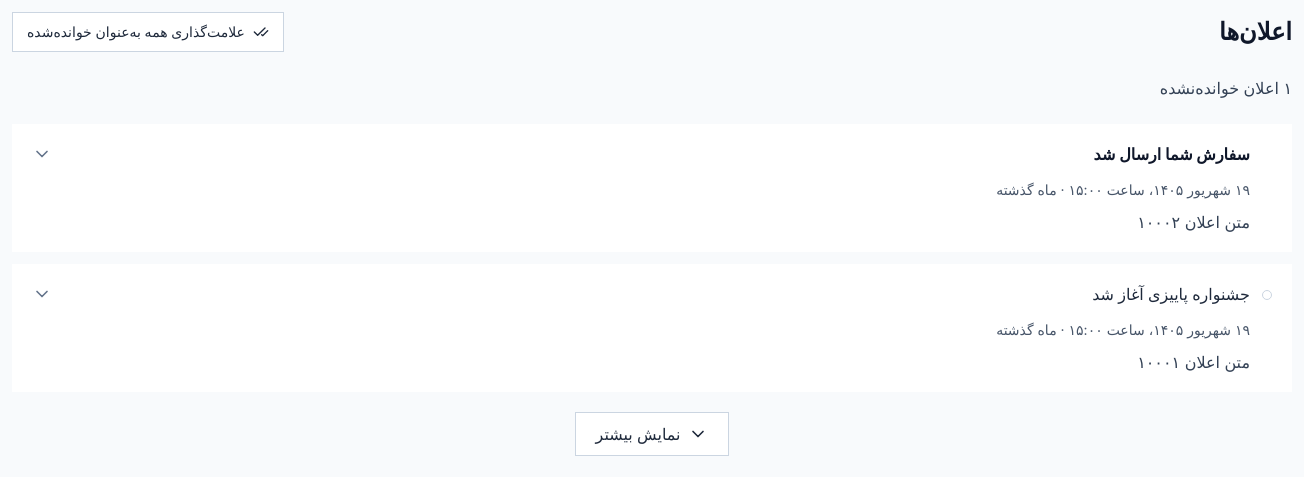
Test case: a read written while the inbox is being read › a 404 while «نمایش بیشتر»’s page is on its way: the page lands, the row stays out
Expected: the text "۱ اعلان خوانده‌نشده" is shown, [1160,78,1292,98]
Click the button "نمایش بیشتر": (652, 434) [574,412,729,456]
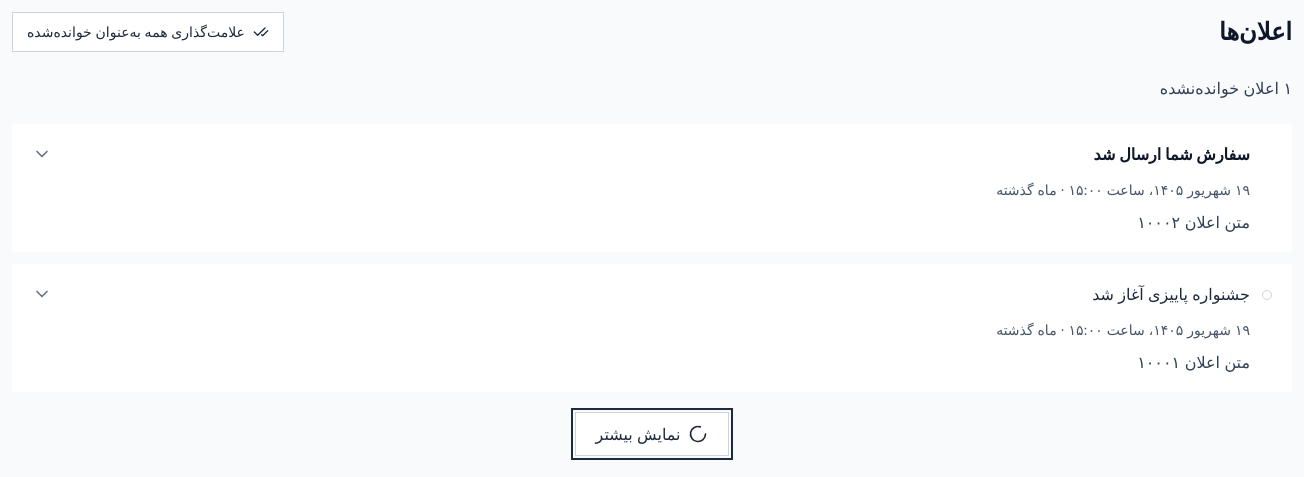
Click the button "سفارش شما ارسال شد": (1172, 154) [12,124,1292,180]
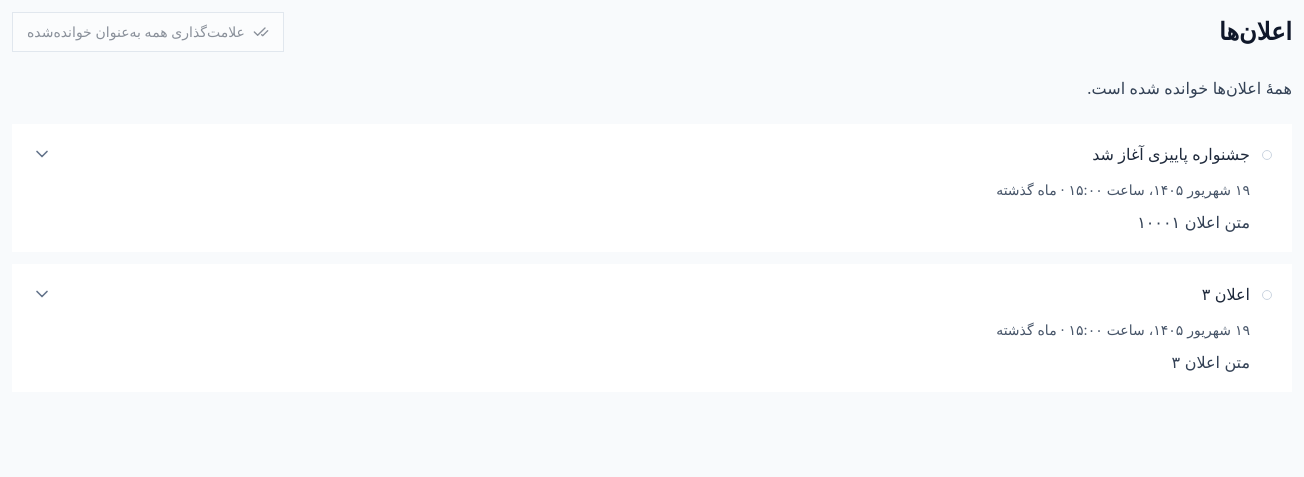
Expected: the button "سفارش شما" is gone
Expected: the button "اعلان ۳" is shown, [12,264,1292,320]
